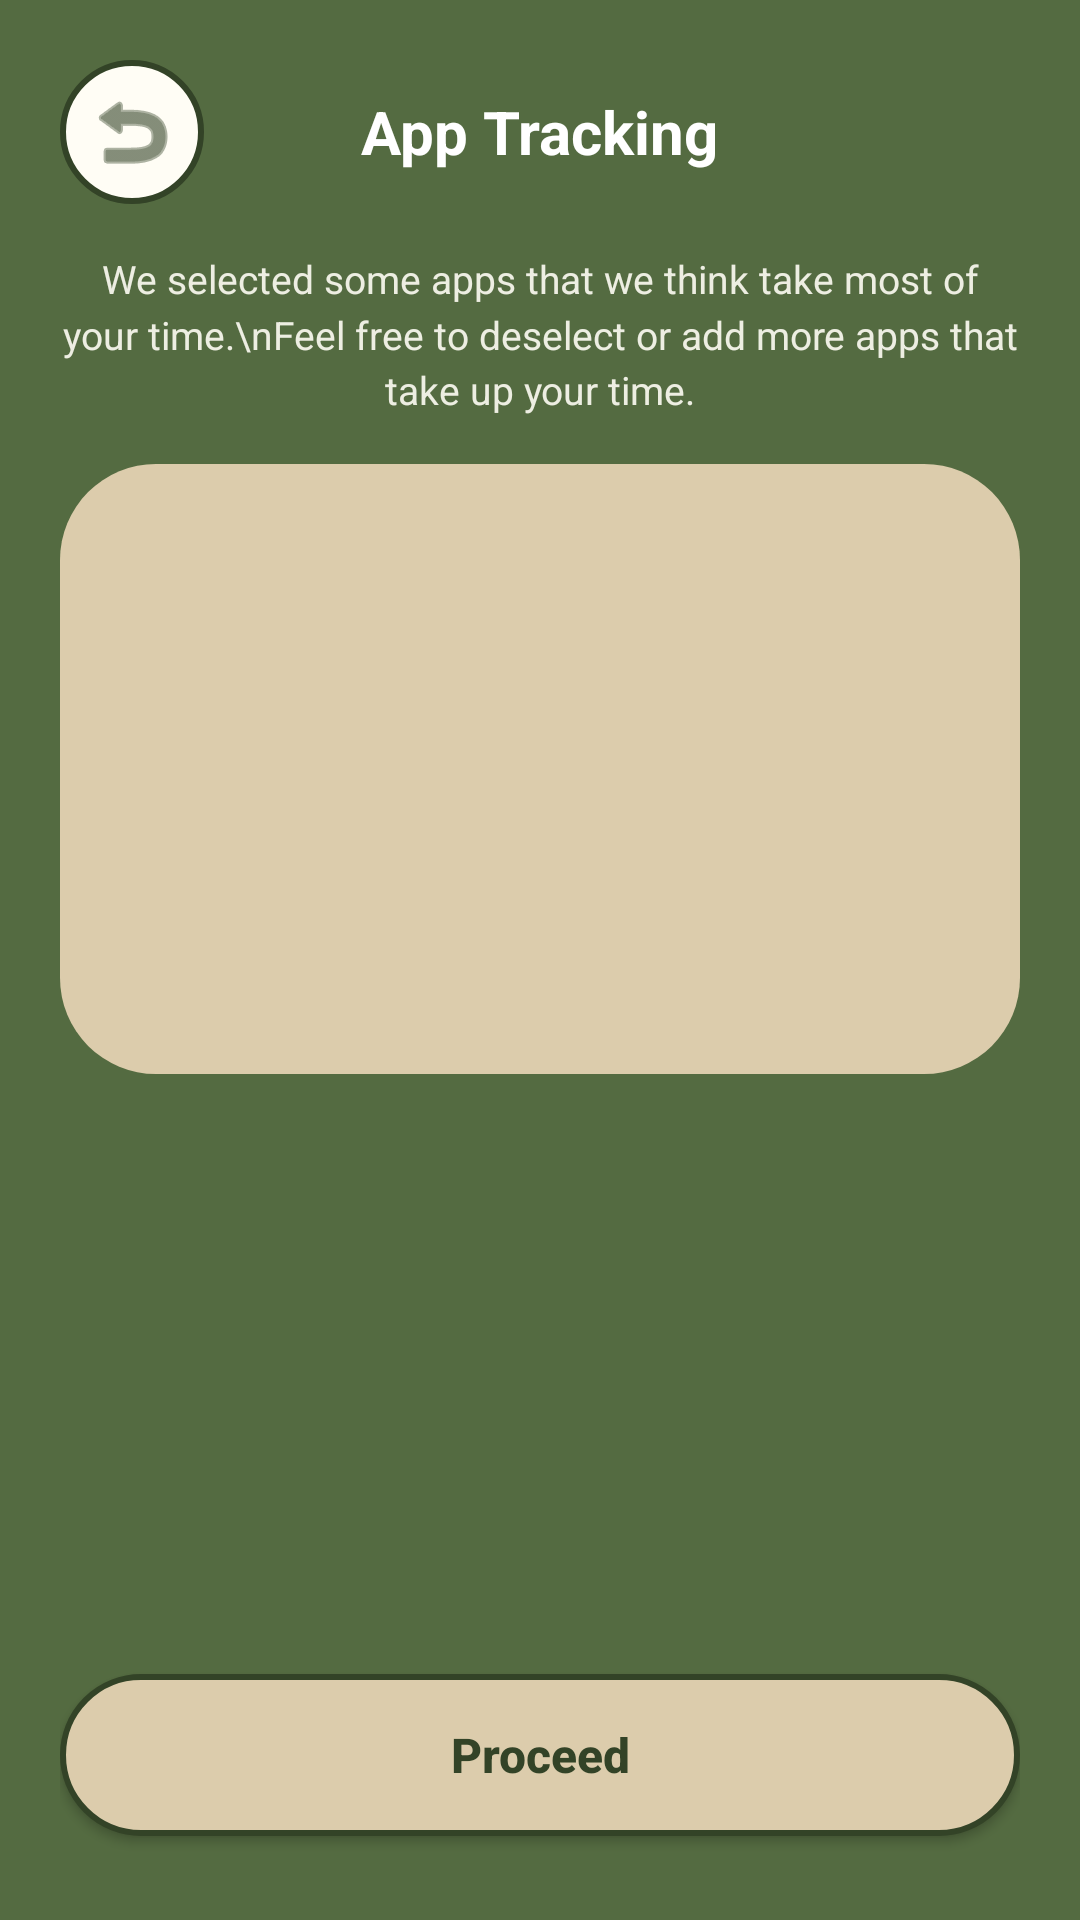

Icon click points for this 1080×1920 phone screenshot, format [x,y]:
Back: [132,132]
